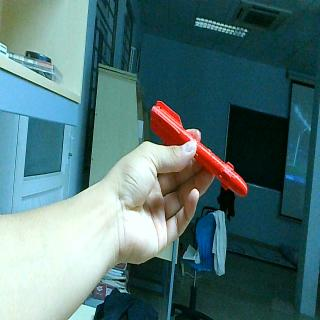Rocket: (149, 97, 248, 197)
